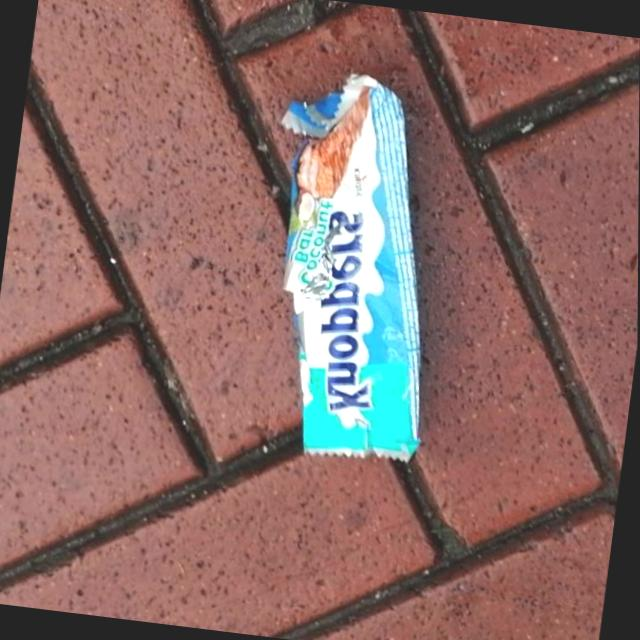Plastic: (233, 59, 470, 472)
